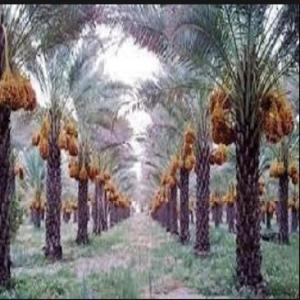palm tree: (0, 5, 37, 292)
